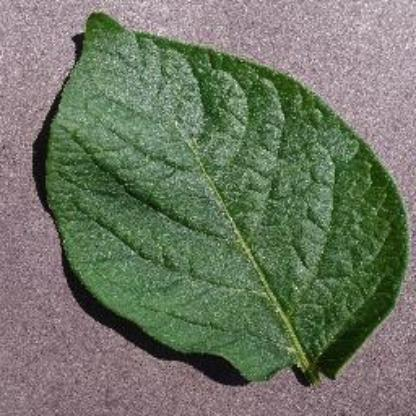Healthy-plant: (35, 11, 409, 392)
